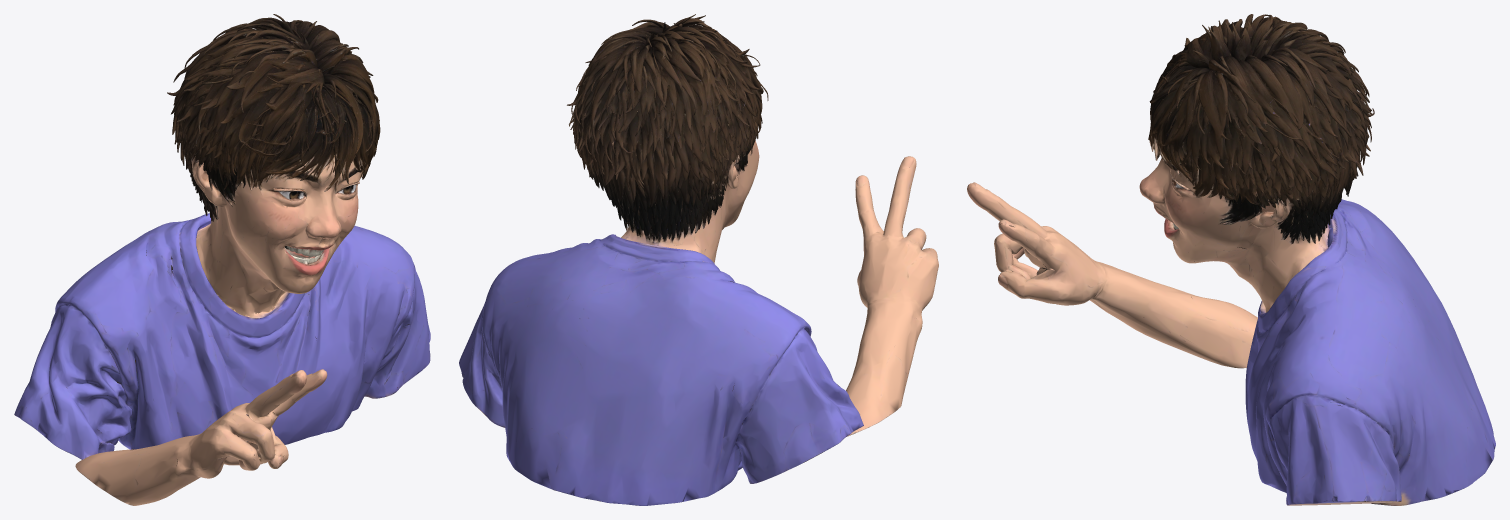
The model's file is conny-character.glb.
The picture shows the model from 3 angles, left to right: view 1: azimuth 30°, elevation 25°; view 2: azimuth 150°, elevation 25°; view 3: azimuth 270°, elevation 25°; orthographic projection. The views are drawn at different scales.
Parts seen in each view (by area): view 1: ConnyBody; view 2: ConnyBody; view 3: ConnyBody.
Boxes of the visible parts, box(x1,y1,x2,y2) form: ConnyBody: box(14, 14, 430, 505); ConnyBody: box(459, 14, 938, 505); ConnyBody: box(967, 14, 1495, 505).
Bounding box in the file's own units: 1.03 × 1 × 1.11.
Materials: 1 (1 with a texture image).
